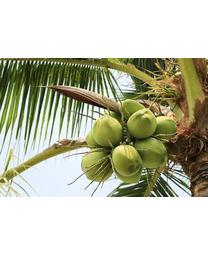coconut: (81, 148, 113, 187), (114, 146, 143, 185), (137, 137, 168, 172), (92, 115, 124, 144), (127, 108, 158, 137)
